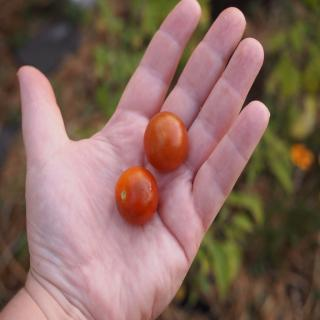tomato: (110, 159, 162, 227), (144, 109, 189, 169)
